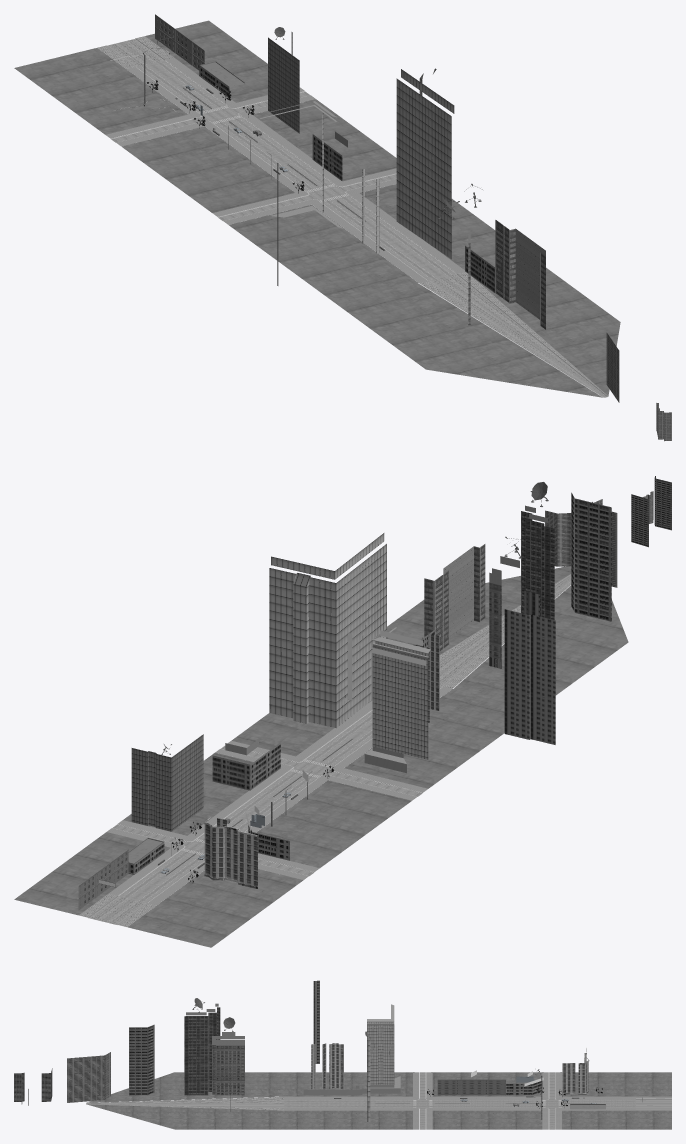
The model's file is carpenter.glb.
3 renders of one model, top to bottom at view 1: azimuth 30°, elevation 25°; view 2: azimuth 150°, elevation 25°; view 3: azimuth 270°, elevation 25°, orthographic. The views are drawn at different scales.
Parts seen in each view (by area): view 1: BLOCK, STREET001, BUILDING_A_01; view 2: BUILDING_A_01, BLOCK, STREET001, Object007; view 3: BLOCK, BUILDING_A_01, STREET001, Object007.
Part boxes in pixels (box(x1,y1,x2,y2)): BLOCK: box(14, 20, 620, 397); STREET001: box(97, 36, 608, 397); BUILDING_A_01: box(155, 14, 671, 441); BUILDING_A_01: box(78, 476, 671, 909); BLOCK: box(14, 566, 628, 947); STREET001: box(79, 574, 571, 926); Object007: box(203, 817, 257, 888); BLOCK: box(86, 1072, 671, 1129); BUILDING_A_01: box(14, 980, 606, 1121); STREET001: box(86, 1072, 671, 1129); Object007: box(578, 1048, 589, 1094).
Bounding box in the file's own units: 156 × 94.92 × 601.
Materials: 39 (22 with a texture image).
